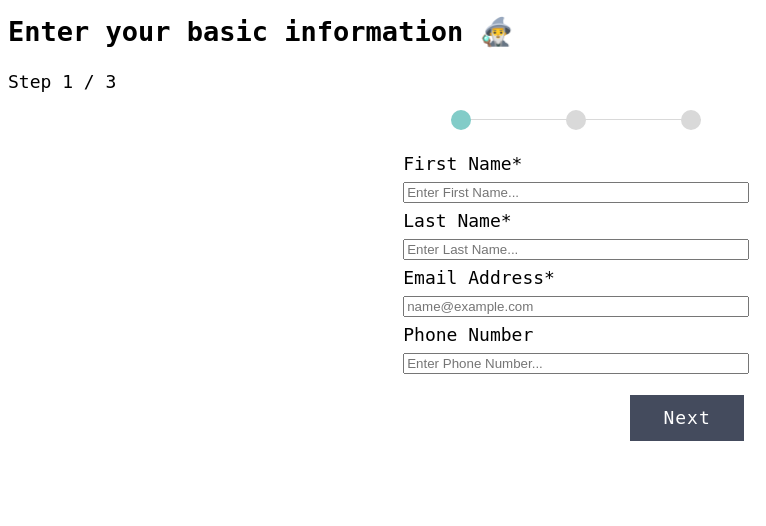
Test: should be correct phone format
In the field with test id "fname": (576, 192) [403,182,749,203], type "yueer"
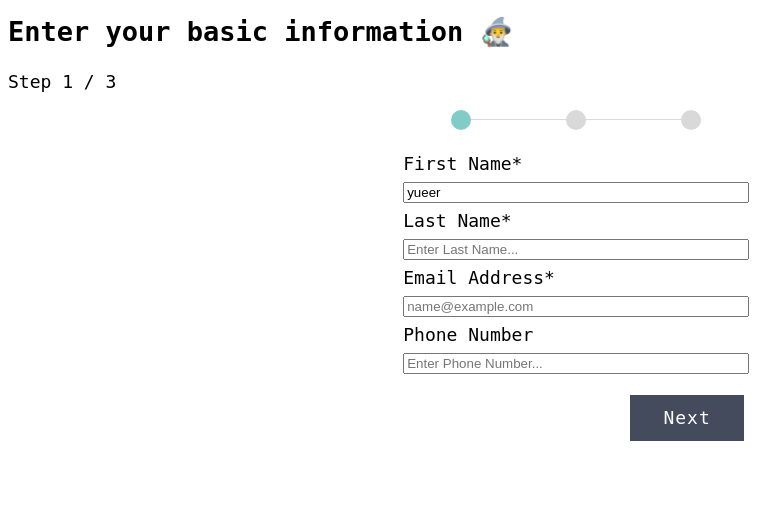
In the field with test id "lname": (576, 249) [403,239,749,260], type "chen"
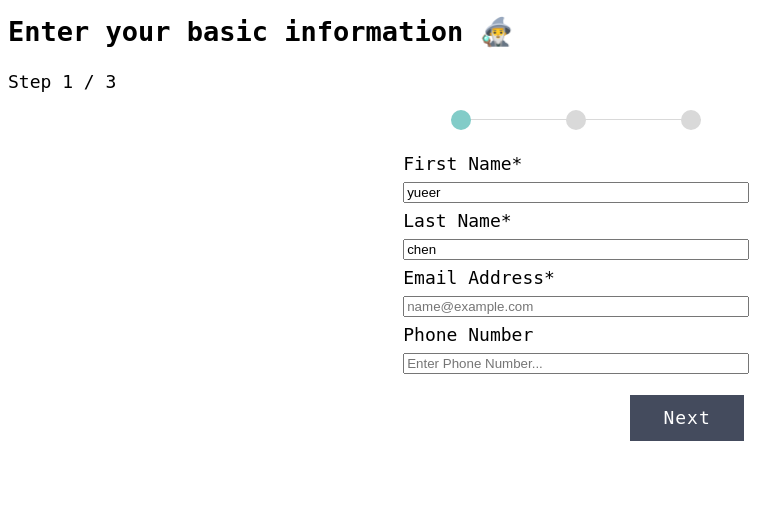
In the field with test id "email": (576, 306) [403,296,749,317], type "yueer.chen0318@gmail.com"
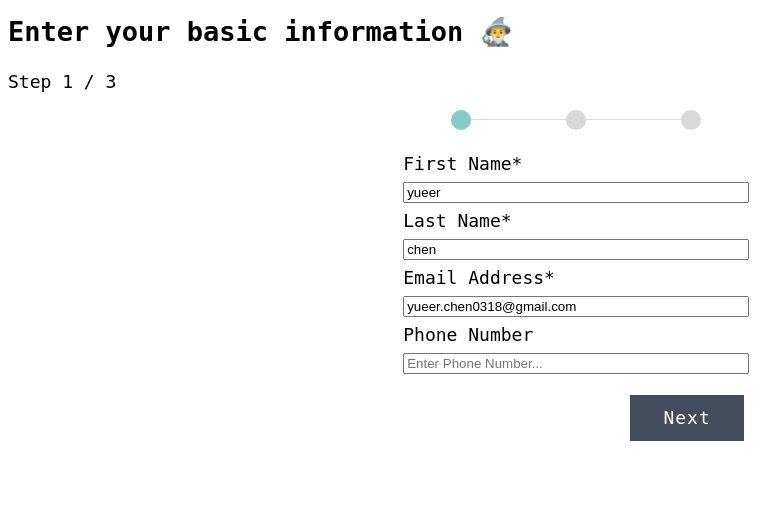
In the field with test id "phone": (576, 363) [403,353,749,374], type "8t77625"
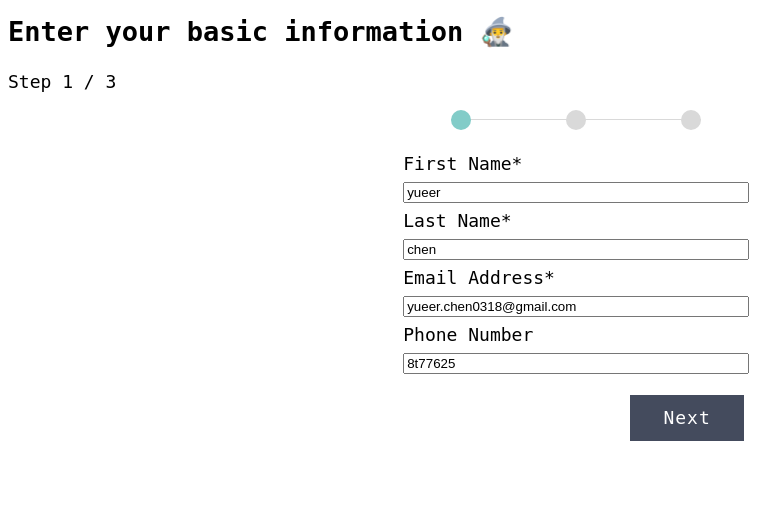
Click the button with test id "continue-first": (687, 418) [630,395,744,441]
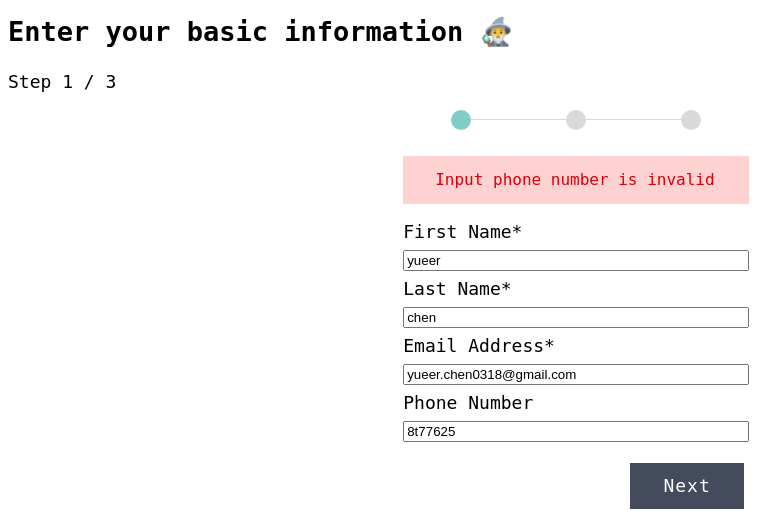
Expected: the text with test id "details-error" reads "Input phone number is invalid", [435,170,715,189]
